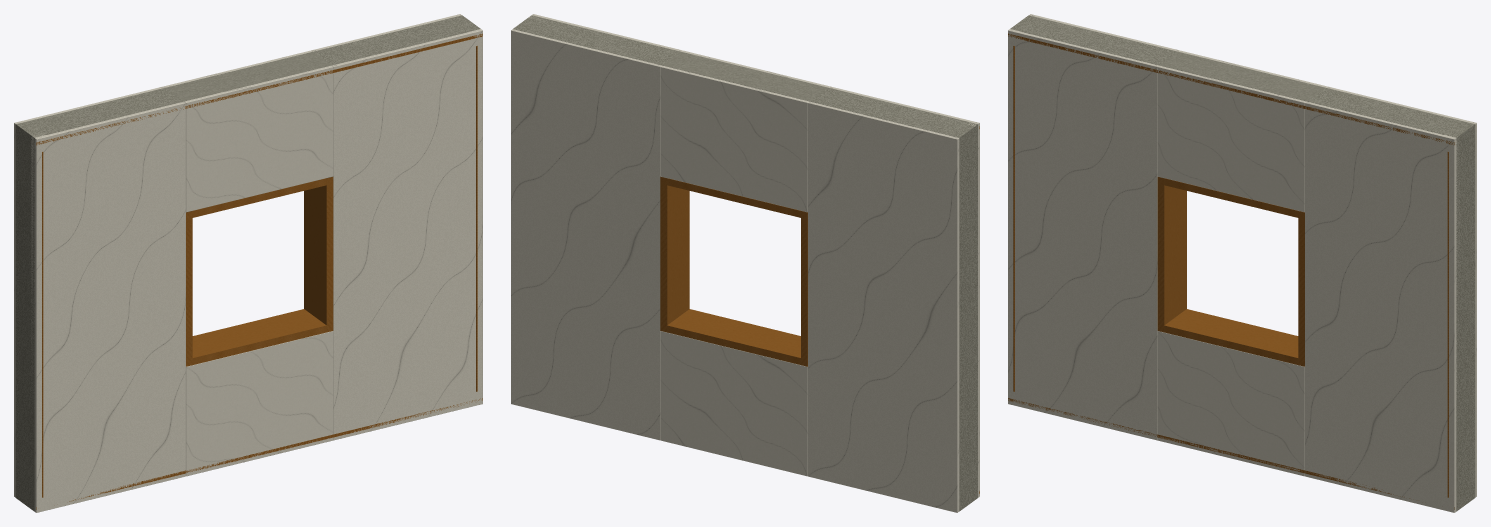
3 views of the same model, side by side, from view 1: azimuth 30°, elevation 25°; view 2: azimuth 150°, elevation 25°; view 3: azimuth 330°, elevation 25° (orthographic).
Visible parts, largest first — view 1: LOD1__Replaceable marble facing panel, LOD1__Replaceable marble facing panel.002, LOD1__Replaceable marble facing panel.006, LOD1__Replaceable marble facing panel.004, LOD1__Bearing masonry wall segment, LOD1__Bronze reveal frame.001, LOD1__Bronze reveal frame.002, LOD1__Bearing masonry wall segment.001, LOD1__Bearing masonry wall segment.003, LOD1__Continuous bronze wall seat.001, LOD1__Continuous bronze wall seat, LOD1__Replaceable marble facing panel.001 (+5 smaller); view 2: LOD1__Replaceable marble facing panel.001, LOD1__Replaceable marble facing panel.003, LOD1__Replaceable marble facing panel.007, LOD1__Replaceable marble facing panel.005, LOD1__Bearing masonry wall segment, LOD1__Bronze reveal frame.001, LOD1__Bronze reveal frame.002, LOD1__Bearing masonry wall segment.001, LOD1__Bearing masonry wall segment.003, LOD1__Bronze reveal frame, LOD1__Bronze reveal frame.003, LOD1__Fluted edge pilaster (+1 smaller); view 3: LOD1__Replaceable marble facing panel.002, LOD1__Replaceable marble facing panel, LOD1__Replaceable marble facing panel.006, LOD1__Replaceable marble facing panel.004, LOD1__Bearing masonry wall segment.001, LOD1__Bronze reveal frame, LOD1__Bronze reveal frame.002, LOD1__Bearing masonry wall segment, LOD1__Bearing masonry wall segment.003, LOD1__Continuous bronze wall seat.001, LOD1__Continuous bronze wall seat, LOD1__Replaceable marble facing panel.003 (+4 smaller).
Boxes of the visible parts, bbox=[...] form: LOD1__Replaceable marble facing panel: bbox=[34, 101, 185, 512]; LOD1__Replaceable marble facing panel.002: bbox=[331, 29, 482, 440]; LOD1__Replaceable marble facing panel.006: bbox=[184, 65, 333, 212]; LOD1__Replaceable marble facing panel.004: bbox=[186, 331, 333, 476]; LOD1__Bearing masonry wall segment: bbox=[15, 87, 183, 511]; LOD1__Bronze reveal frame.001: bbox=[304, 177, 333, 332]; LOD1__Bronze reveal frame.002: bbox=[192, 309, 326, 364]; LOD1__Bearing masonry wall segment.001: bbox=[313, 15, 480, 177]; LOD1__Bearing masonry wall segment.003: bbox=[166, 51, 330, 101]; LOD1__Continuous bronze wall seat.001: bbox=[36, 33, 482, 145]; LOD1__Continuous bronze wall seat: bbox=[36, 398, 482, 509]; LOD1__Replaceable marble facing panel.001: bbox=[14, 86, 164, 497]; LOD1__Replaceable marble facing panel.001: bbox=[808, 101, 959, 512]; LOD1__Replaceable marble facing panel.003: bbox=[511, 29, 661, 440]; LOD1__Replaceable marble facing panel.007: bbox=[660, 65, 809, 212]; LOD1__Replaceable marble facing panel.005: bbox=[660, 331, 807, 476]; LOD1__Bearing masonry wall segment: bbox=[810, 87, 977, 511]; LOD1__Bronze reveal frame.001: bbox=[660, 176, 689, 332]; LOD1__Bronze reveal frame.002: bbox=[667, 309, 800, 364]; LOD1__Bearing masonry wall segment.001: bbox=[513, 15, 680, 177]; LOD1__Bearing masonry wall segment.003: bbox=[662, 52, 827, 101]; LOD1__Bronze reveal frame: bbox=[801, 211, 807, 366]; LOD1__Bronze reveal frame.003: bbox=[667, 178, 800, 217]; LOD1__Fluted edge pilaster: bbox=[967, 120, 979, 497]; LOD1__Replaceable marble facing panel.002: bbox=[1305, 101, 1456, 512]; LOD1__Replaceable marble facing panel: bbox=[1008, 29, 1159, 440]; LOD1__Replaceable marble facing panel.006: bbox=[1157, 65, 1306, 212]; LOD1__Replaceable marble facing panel.004: bbox=[1157, 331, 1304, 476]; LOD1__Bearing masonry wall segment.001: bbox=[1307, 87, 1475, 511]; LOD1__Bronze reveal frame: bbox=[1157, 177, 1186, 332]; LOD1__Bronze reveal frame.002: bbox=[1164, 309, 1298, 364]; LOD1__Bearing masonry wall segment: bbox=[1010, 15, 1177, 177]; LOD1__Bearing masonry wall segment.003: bbox=[1160, 51, 1324, 101]; LOD1__Continuous bronze wall seat.001: bbox=[1008, 33, 1454, 144]; LOD1__Continuous bronze wall seat: bbox=[1008, 398, 1454, 509]; LOD1__Replaceable marble facing panel.003: bbox=[1326, 86, 1476, 497].
Bounding box in the file's own units: 4 × 3.2 × 0.353.
Materials: 3 (3 with a texture image).
